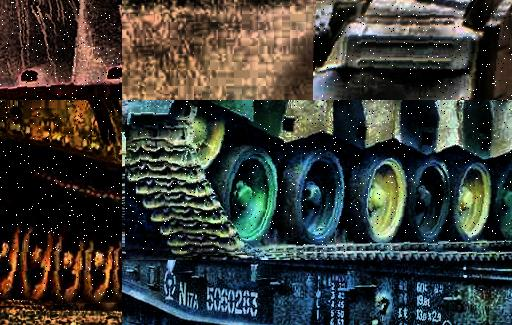tanks: (127, 101, 512, 253), (1, 101, 123, 304), (315, 1, 512, 101), (1, 1, 123, 101), (123, 131, 151, 231)
